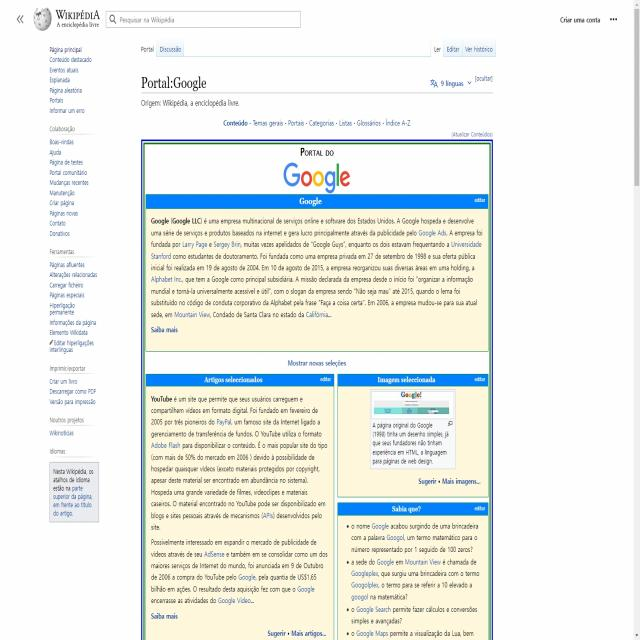search: (104, 7, 302, 30)
side-panel: (38, 39, 113, 640)
